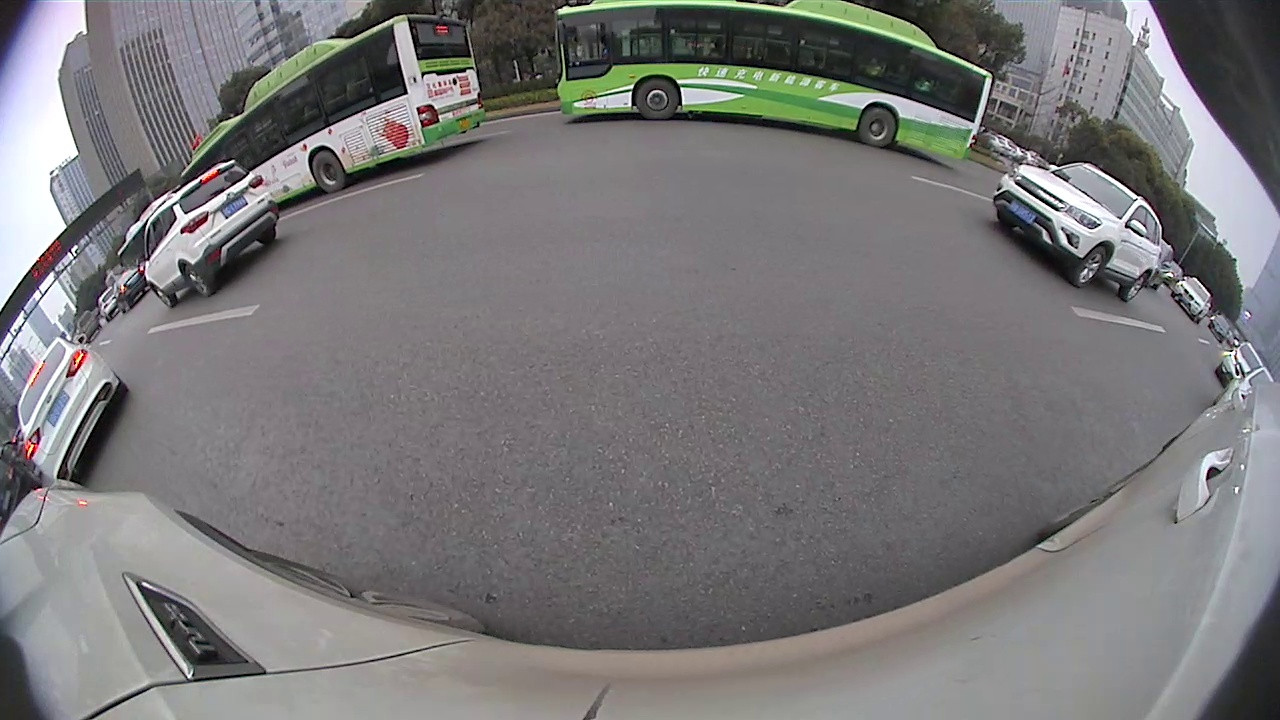bus: (553, 2, 998, 174), (172, 7, 487, 213)
car: (990, 159, 1166, 306), (136, 158, 281, 313), (14, 333, 131, 484)
front: (634, 76, 681, 123), (1073, 242, 1107, 289)
rear: (858, 103, 898, 149), (312, 146, 347, 194), (183, 261, 211, 298), (1123, 270, 1151, 304)
